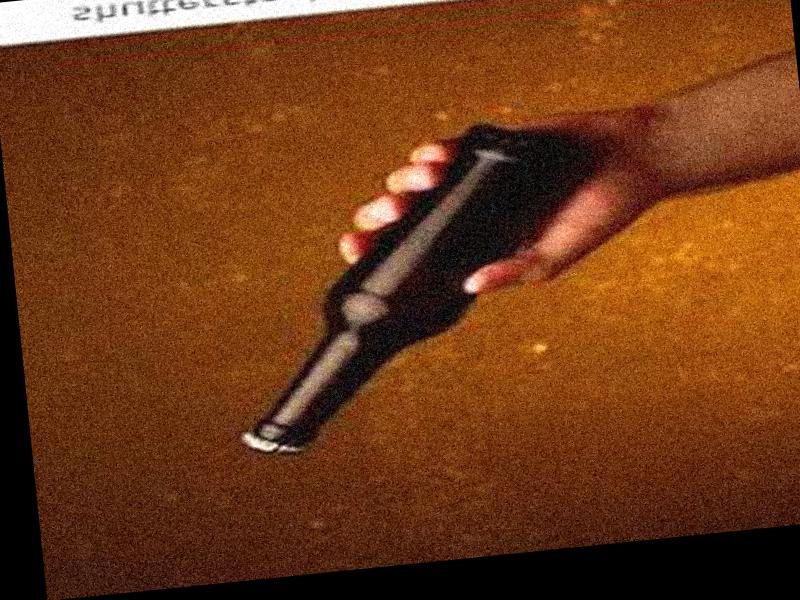Beer: (207, 111, 636, 461)
